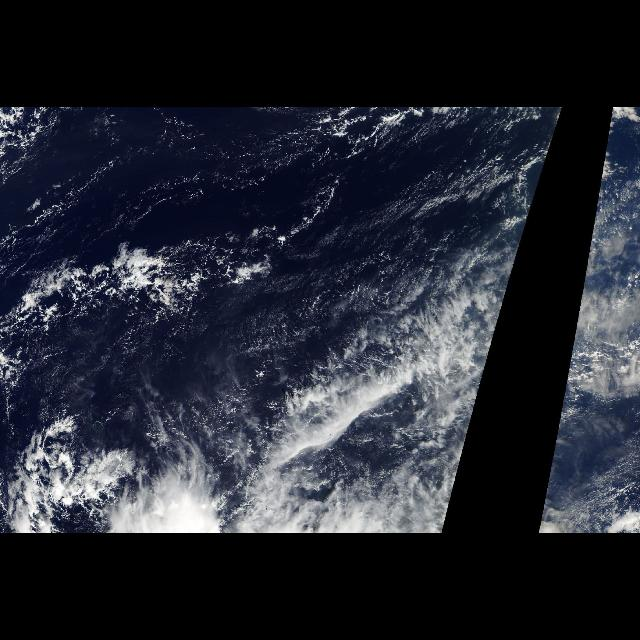Fish: (5, 172, 515, 476)
Gravel: (3, 240, 221, 334), (2, 108, 62, 182)
Sugar: (198, 150, 544, 366)
